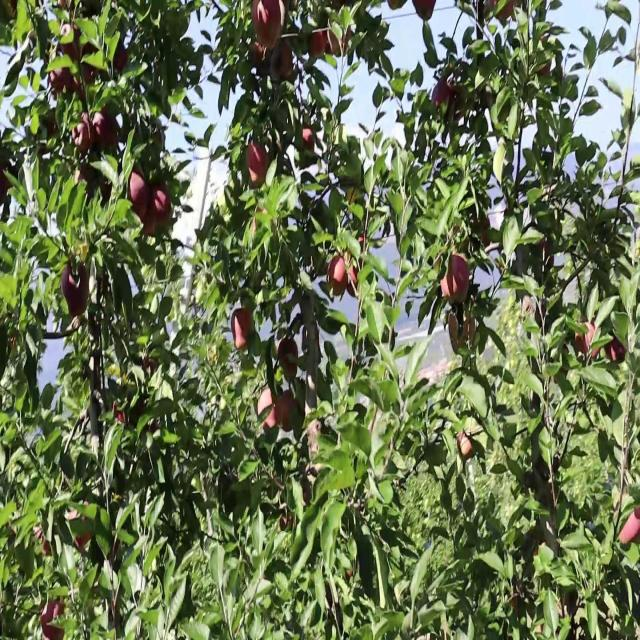apple: (60, 263, 91, 318), (252, 0, 285, 50), (440, 255, 471, 306), (144, 184, 172, 240), (128, 170, 153, 217), (328, 14, 354, 57), (232, 305, 255, 352), (96, 106, 120, 151), (448, 312, 476, 350), (616, 504, 640, 548), (272, 42, 296, 84), (72, 113, 94, 156), (276, 391, 298, 434), (576, 319, 599, 359), (40, 604, 66, 639), (248, 142, 271, 180), (328, 255, 348, 297), (60, 28, 83, 64), (280, 341, 301, 379), (328, 21, 347, 57), (432, 78, 453, 110), (260, 391, 277, 430), (308, 28, 327, 60), (608, 334, 627, 363), (300, 127, 317, 158), (456, 433, 475, 460), (248, 42, 266, 69), (112, 49, 129, 75), (248, 170, 268, 192), (348, 263, 360, 299), (416, 0, 436, 21), (144, 213, 159, 240), (36, 533, 53, 556), (144, 355, 160, 377), (368, 405, 379, 437), (492, 7, 513, 23), (304, 327, 320, 348), (80, 163, 94, 185), (76, 533, 92, 551), (116, 405, 127, 427), (512, 590, 520, 617), (4, 172, 11, 197)
